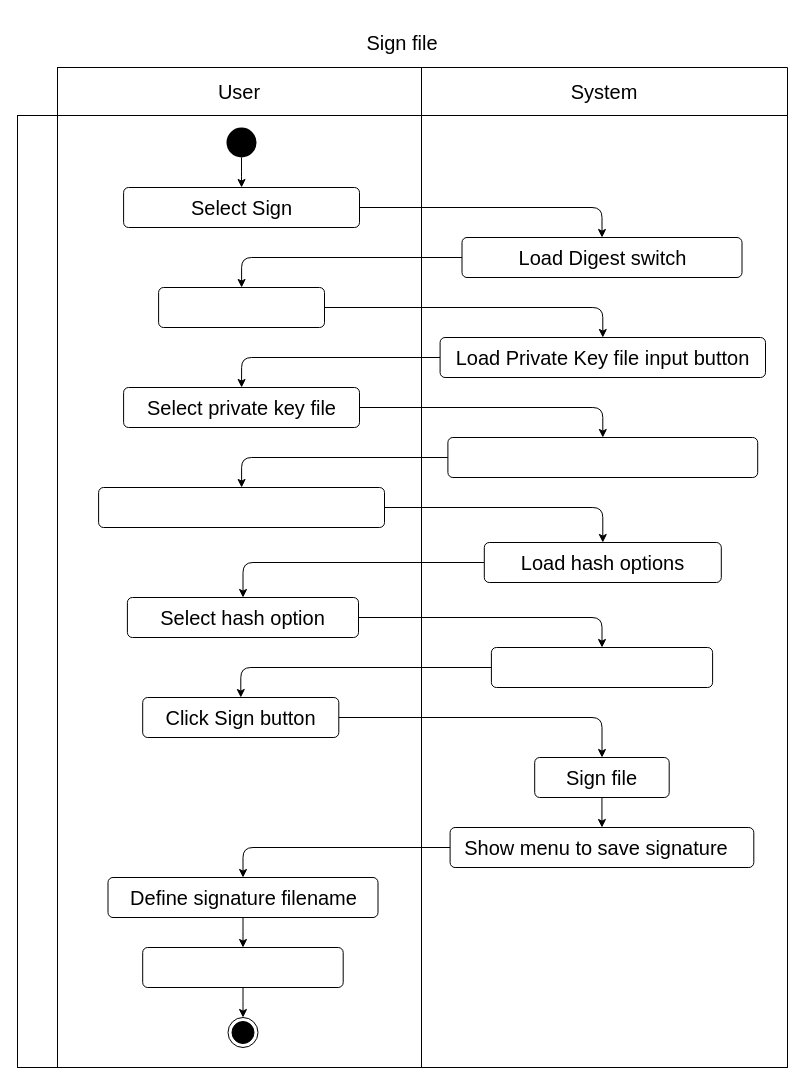
This 805x1085 diagram has some shape labels left out. The centre of each missing label's shape, as x and y in pixels:
"Load original file input button" belongs at (x=602, y=457).
"Save signature file" belongs at (x=242, y=967).
"Select original file to sign" belongs at (x=241, y=507).
"Show Sign button" belongs at (x=601, y=667).
"Toggle off" belongs at (x=241, y=307).
